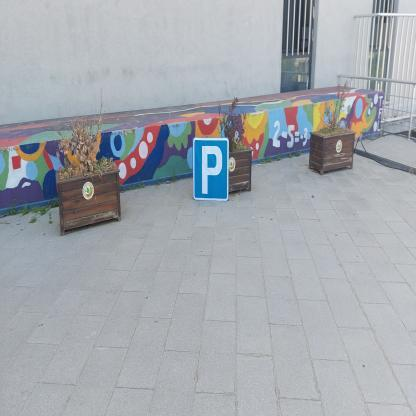parking: (192, 137, 228, 201)
